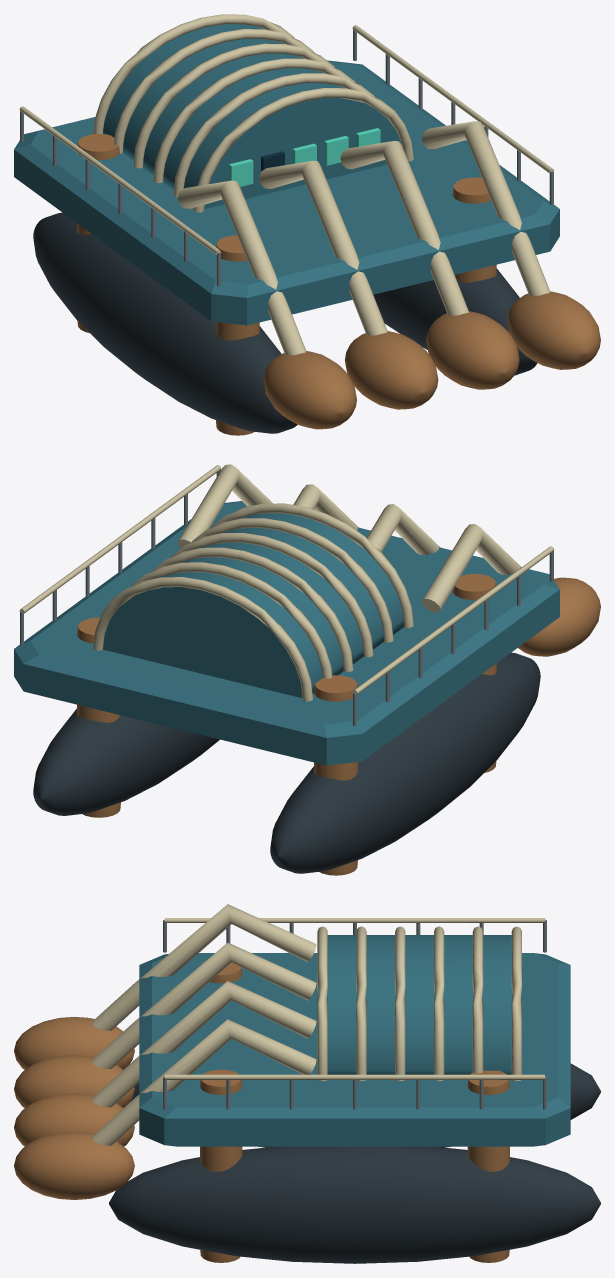
File: thalassa_wave_station.glb
The picture shows the model from 3 angles, top to bottom: view 1: azimuth 30°, elevation 25°; view 2: azimuth 150°, elevation 25°; view 3: azimuth 270°, elevation 25°; orthographic projection. The views are drawn at different scales.
Visible parts, largest first — view 1: thalassa_wave_station; view 2: thalassa_wave_station; view 3: thalassa_wave_station.
Part boxes in pixels (x1,y1,x2,y2): thalassa_wave_station: (14, 14, 600, 435); thalassa_wave_station: (14, 464, 600, 875); thalassa_wave_station: (14, 904, 600, 1263).
Size of the model in its own units: 18 by 13.52 by 27.2.
